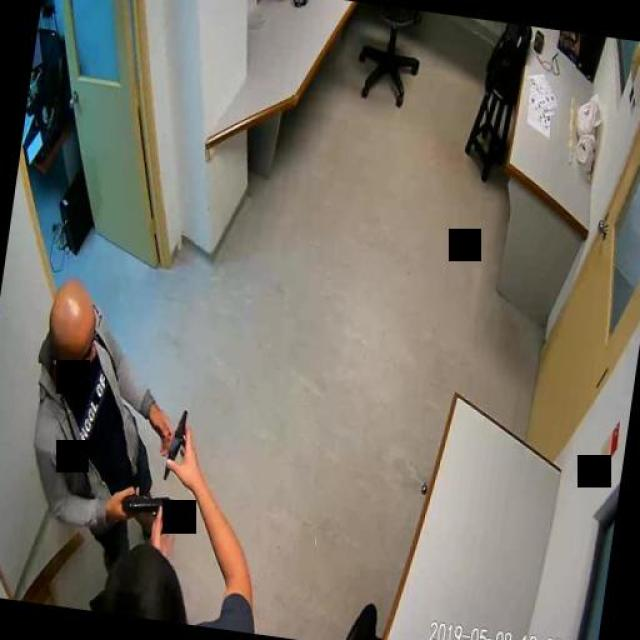gun: (119, 486, 176, 520)
